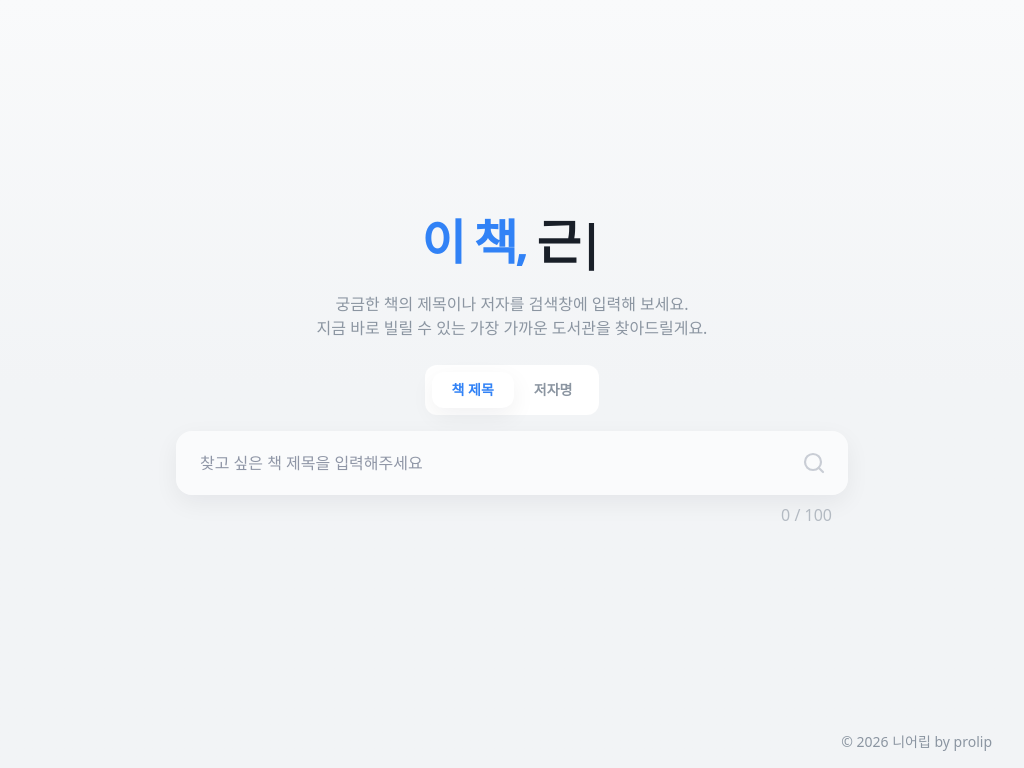
Test: app router integration › 검색을 시작하면 도서 검색 결과 화면으로 이동한다
In the field: (512, 463) [176,431,848,495], type "파친코"
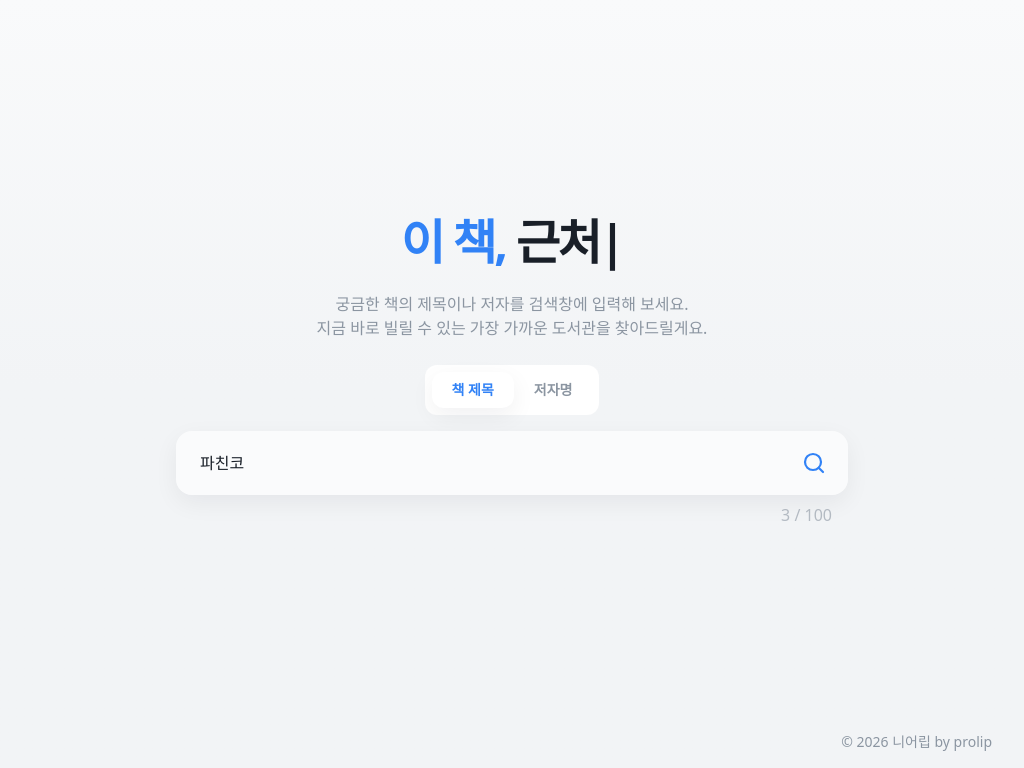
Click the button named "검색": click(814, 463) [792,441,836,485]
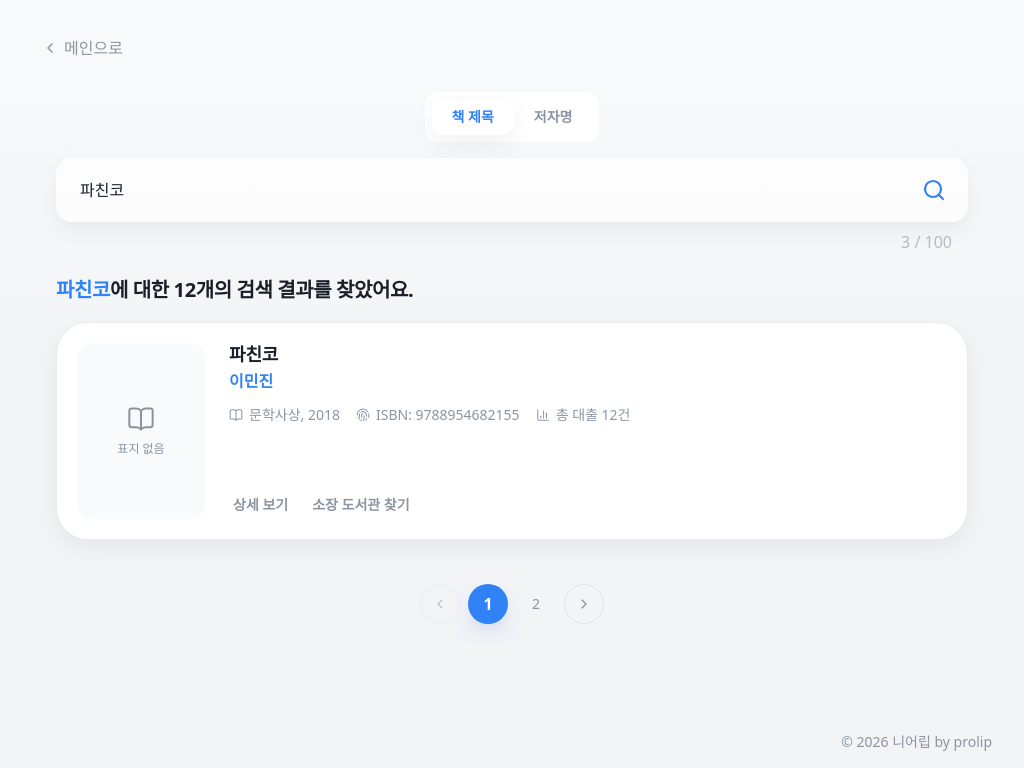
Now the form named "도서 결과 재검색" is shown, box [56,158,968,254]
Now the text "파친코" is shown, box [56,276,110,303]
